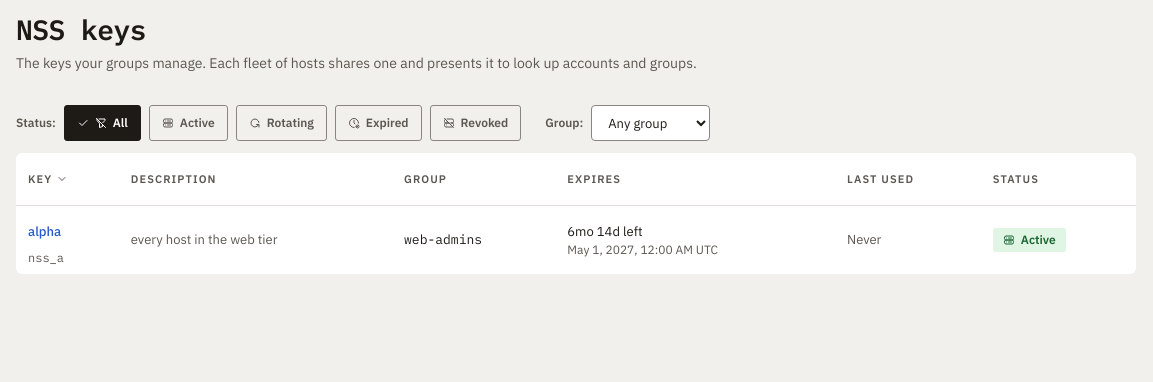
Test: NSS keys list › filters and sort › should offer Clear filters when the filters exclude every key
Click the button with test id "nss-keys-status-filter-revoked". click: (475, 123)
box: [430,105,521,141]
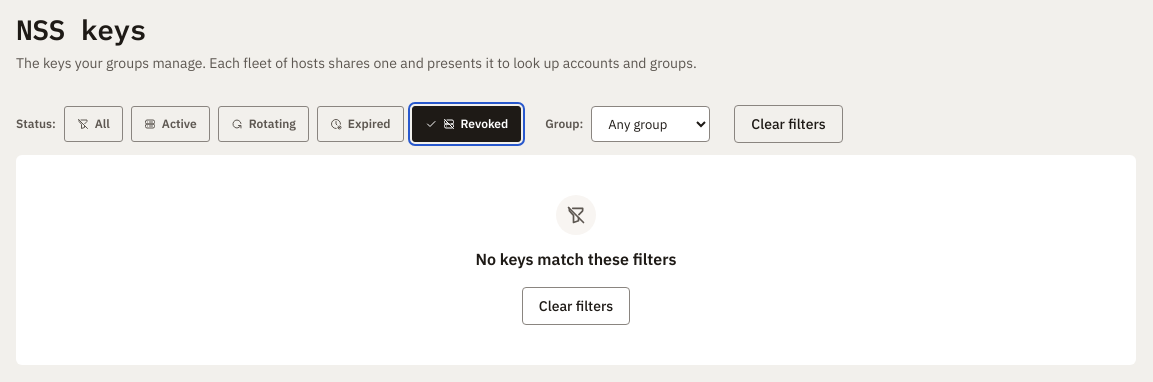
Expected: the element with test id "nss-keys-filtered" shows "Clear filters", [522,287,630,325]
